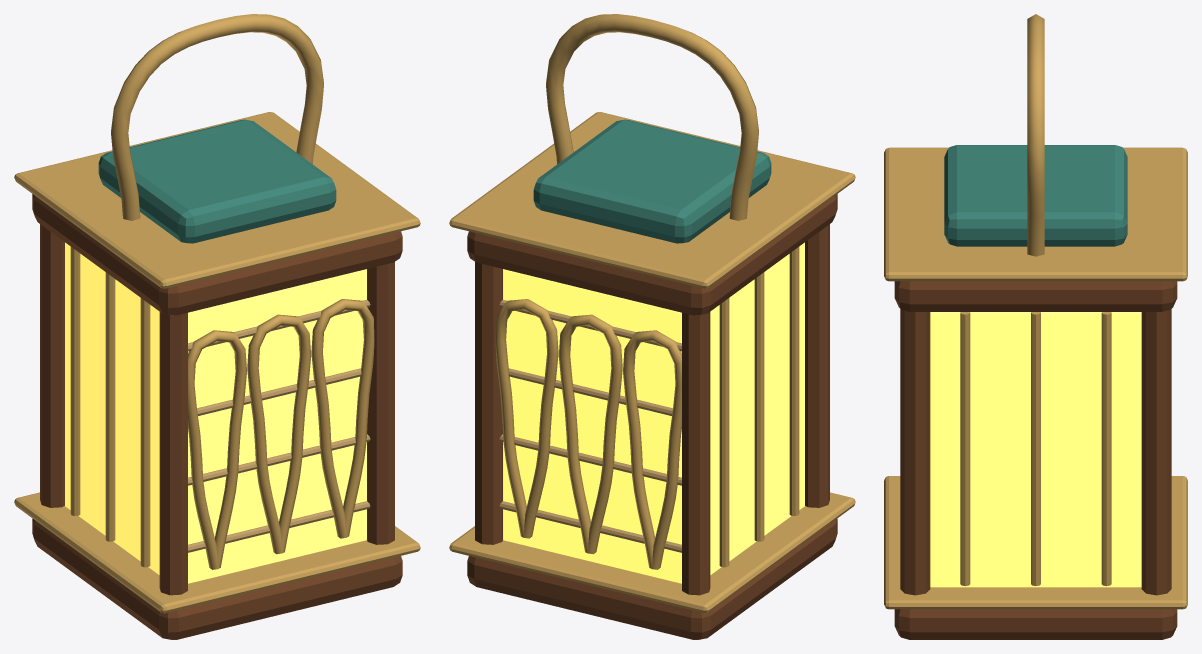
The model's file is travel-lanterns.glb.
3 renders of one model, left to right at view 1: azimuth 30°, elevation 25°; view 2: azimuth 150°, elevation 25°; view 3: azimuth 270°, elevation 25°, orthographic.
Visible parts, largest first — view 1: CarvedMesh, PaperMesh; view 2: CarvedMesh, PaperMesh; view 3: CarvedMesh.
Part boxes in pixels (x1=…): CarvedMesh: x1=14, y1=14, x2=420, y2=639; PaperMesh: x1=188, y1=300, x2=370, y2=552; CarvedMesh: x1=449, y1=14, x2=855, y2=639; PaperMesh: x1=499, y1=300, x2=681, y2=552; CarvedMesh: x1=884, y1=14, x2=1187, y2=639.
Bounding box in the file's own units: 0.365 × 0.7345 × 0.365.
